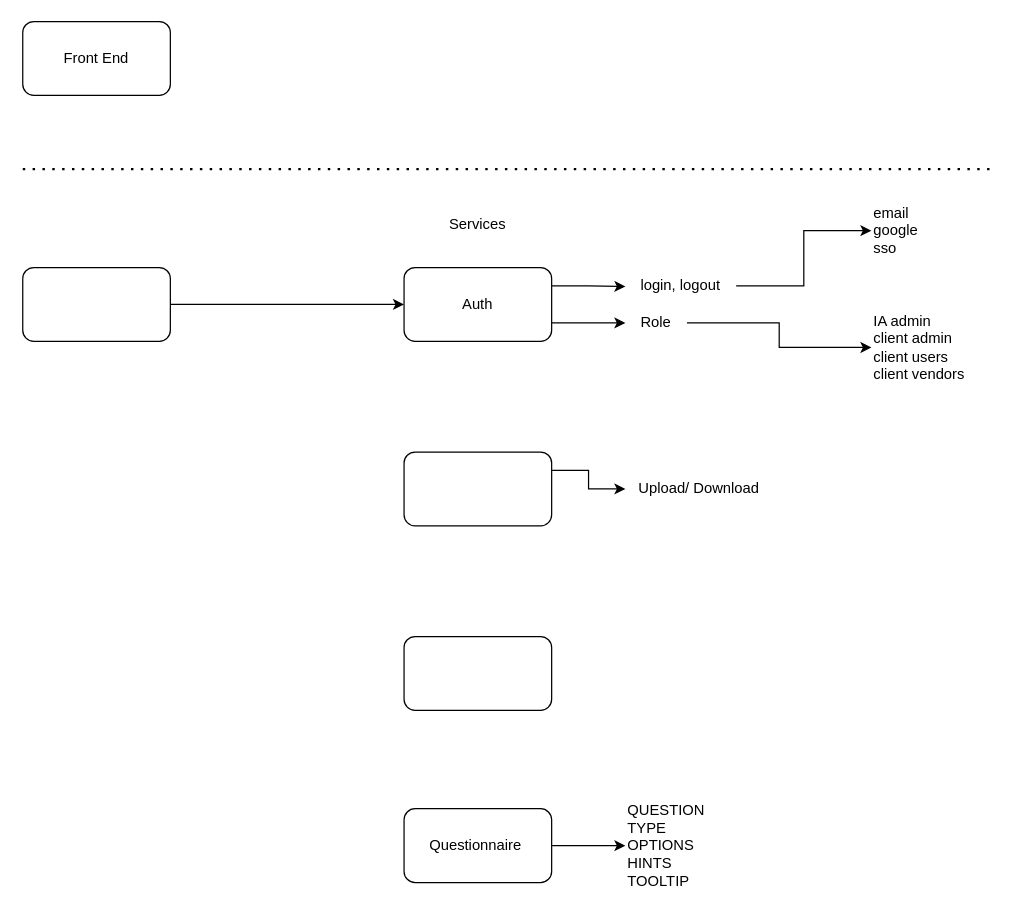
This 1017x916 diagram has some shape labels left out. The shapes that lost their labels are listed below. From the top down, each one's centre as x and y in pixels, then its label:
(x=96, y=303): Back End
(x=477, y=488): Blob
